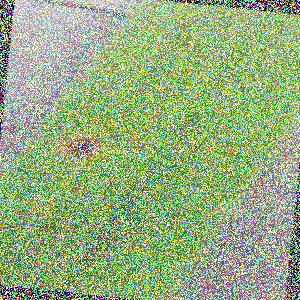Bacterial_Leaf_Blight: (55, 124, 117, 169)
